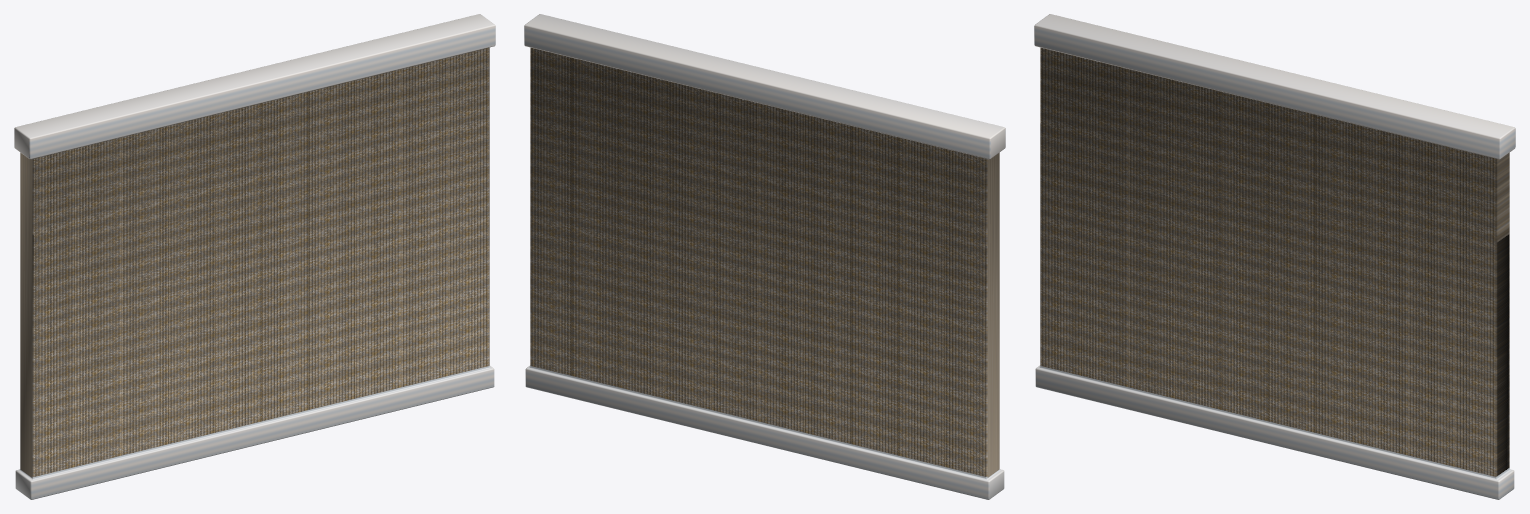
Rendered from garage-exterior-wall.glb.
3 renders of one model, left to right at view 1: azimuth 30°, elevation 25°; view 2: azimuth 150°, elevation 25°; view 3: azimuth 330°, elevation 25°, orthographic.
Visible parts, largest first — view 1: Core; view 2: Core; view 3: Core.
Part boxes in pixels (x1,y1,x2,y2): Core: (14,14,495,499); Core: (524,14,1005,499); Core: (1034,14,1515,499).
Size of the model in its own units: 4.08 by 3.03 by 0.24.
3 materials, 3 textured.
